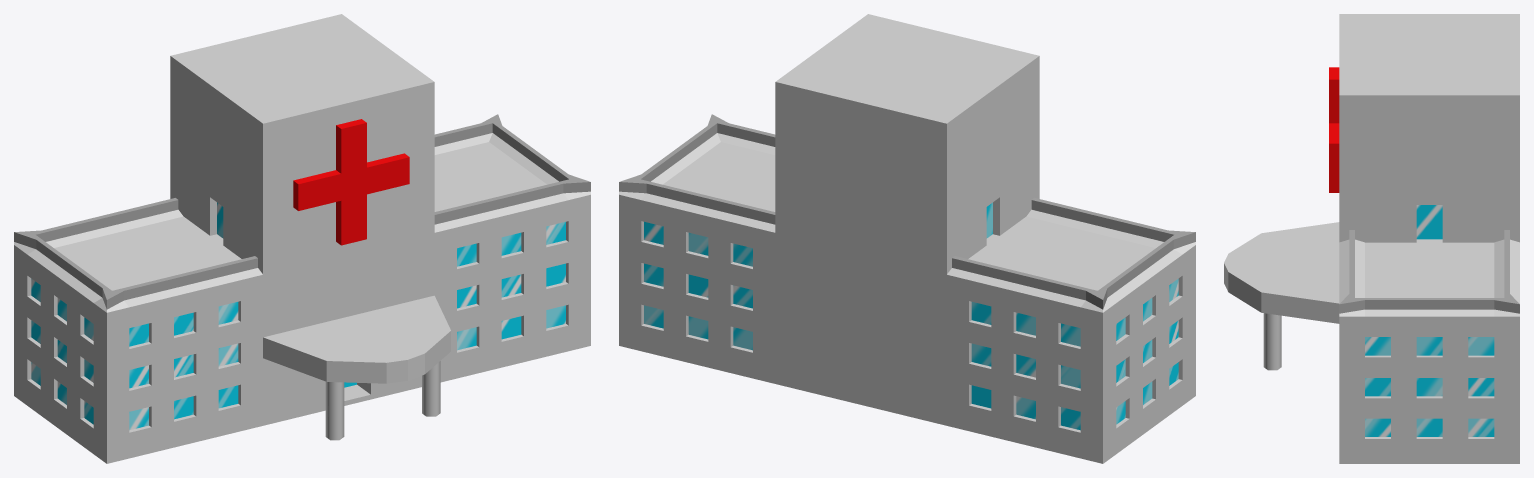
3 views of the same model, side by side, from view 1: azimuth 30°, elevation 25°; view 2: azimuth 150°, elevation 25°; view 3: azimuth 270°, elevation 25° (orthographic). The views are drawn at different scales.
Visible parts, largest first — view 1: Hospital; view 2: Hospital; view 3: Hospital.
Part boxes in pixels (x1,y1,x2,y2): Hospital: [14, 14, 590, 463]; Hospital: [619, 14, 1195, 463]; Hospital: [1224, 14, 1519, 463].
Bounding box in the file's own units: 16.7 × 9.96 × 9.08.
Materials: 1 (1 with a texture image).
